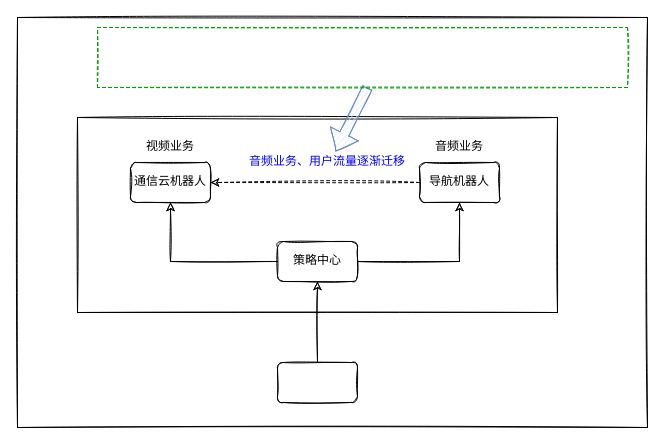
Image size: 665x445. Some labels were removed from this diagram. Here are the shapes that lost their labels. From the top down, the centre of each, then its label:
point 362,57: 1、先将全量导航业务迁移到通信云机器人 2、然后逐渐将用户分流到通信云机器人 （两套机器人共存状态） ： 共存期间的需求承接原则
point 317,382: IVR
